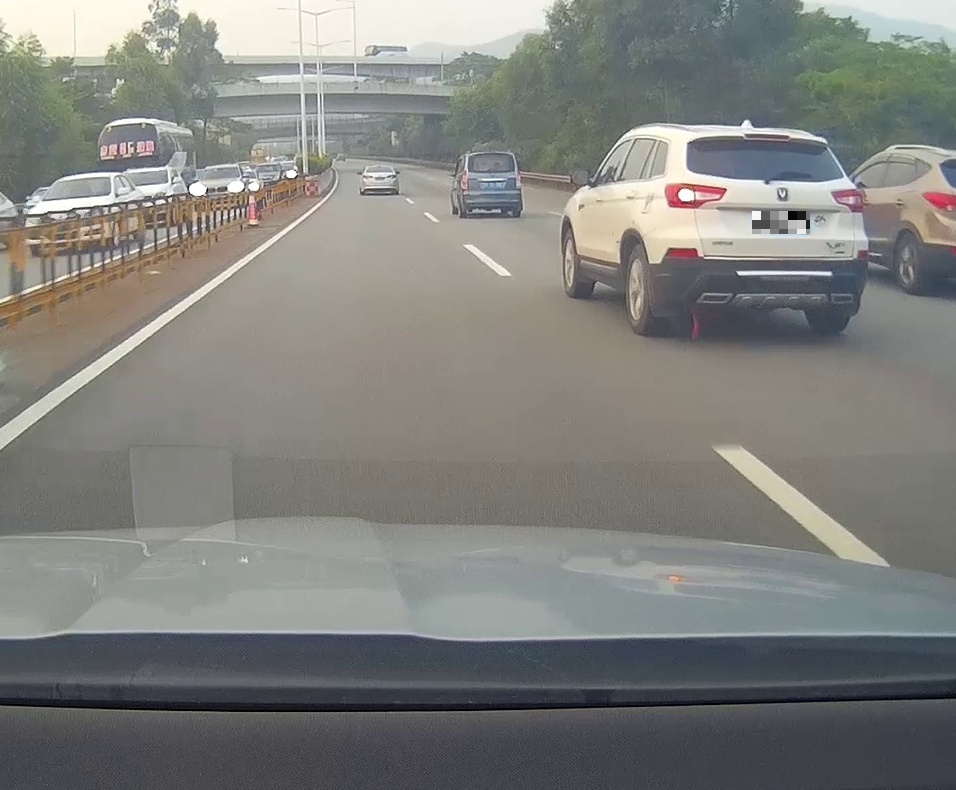L_light: (664, 183, 727, 209), (461, 168, 468, 189), (362, 175, 373, 178)
R_light: (831, 188, 865, 213), (516, 171, 522, 189), (387, 175, 396, 177)
T_light: (744, 133, 790, 141), (488, 169, 498, 171), (377, 167, 383, 168)
day-left: (660, 126, 869, 333)
day-no: (459, 151, 523, 217), (360, 165, 399, 195)
plate_1: (752, 211, 810, 234)
